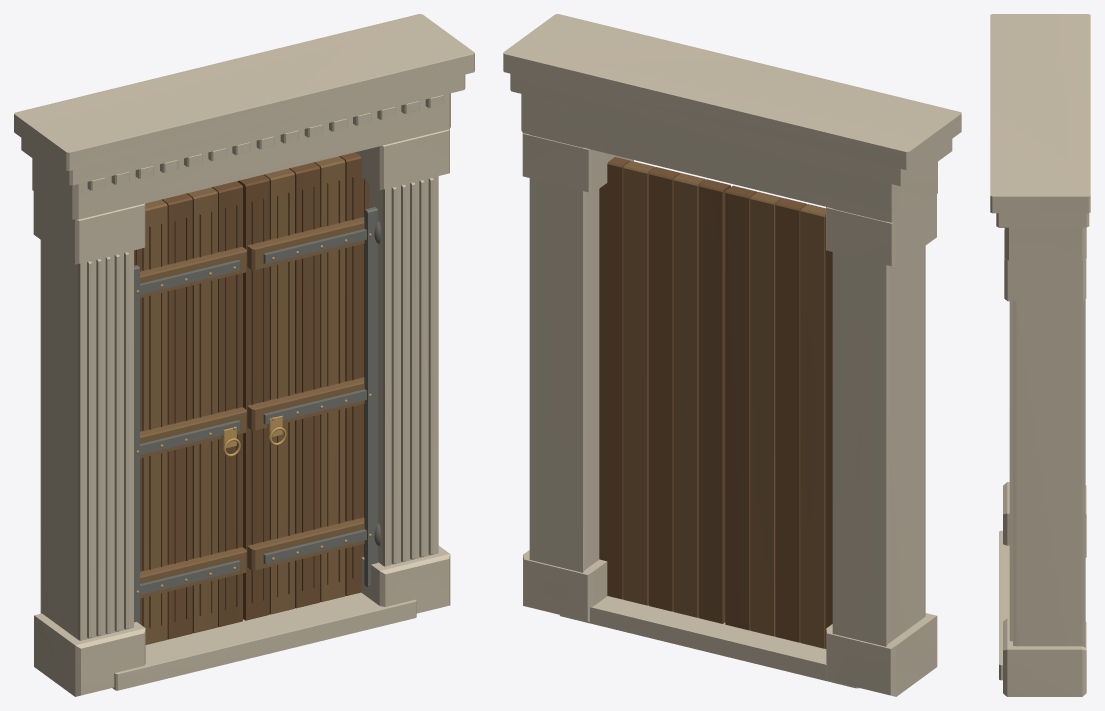
The model's file is portal_lod0.glb.
3 renders of one model, left to right at view 1: azimuth 30°, elevation 25°; view 2: azimuth 150°, elevation 25°; view 3: azimuth 270°, elevation 25°, orthographic. The views are drawn at different scales.
Parts seen in each view (by area): view 1: Viva_Taberna_Portal; view 2: Viva_Taberna_Portal; view 3: Viva_Taberna_Portal.
Part boxes in pixels (left/top/right/bottom): Viva_Taberna_Portal: left=14, top=14, right=474, bottom=696; Viva_Taberna_Portal: left=503, top=14, right=961, bottom=696; Viva_Taberna_Portal: left=990, top=14, right=1090, bottom=696.
Size of the model in its own units: 2.32 by 3.01 by 0.54.
